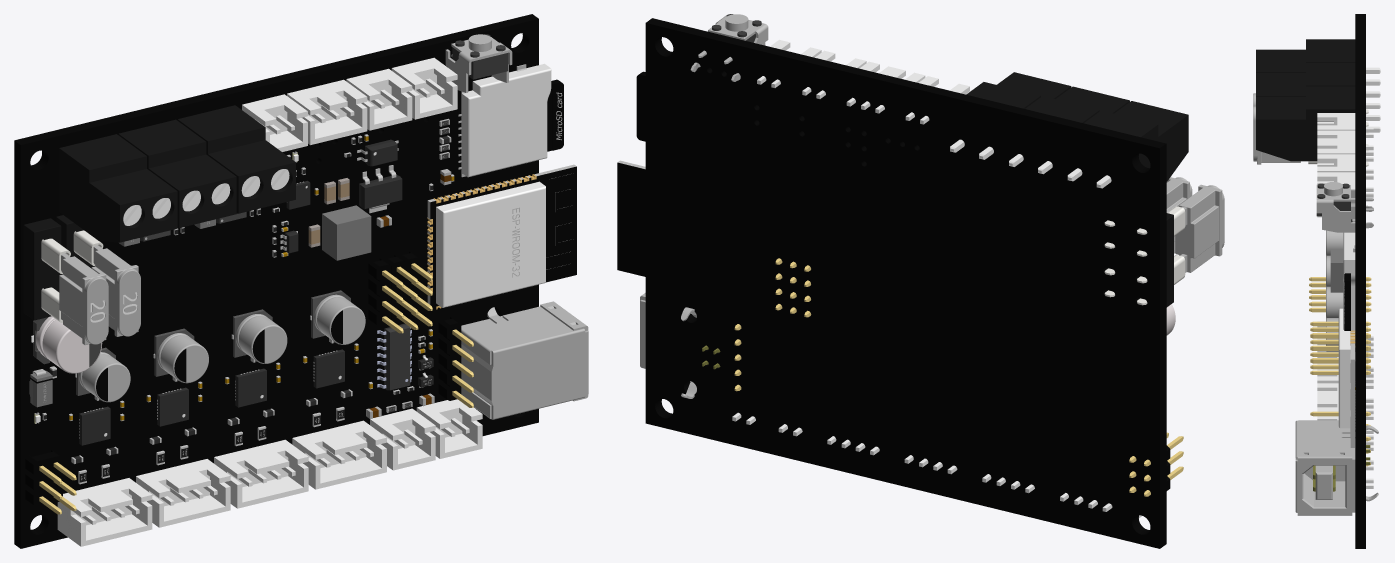
Rendered from pcb.glb.
3 renders of one model, left to right at view 1: azimuth 30°, elevation 25°; view 2: azimuth 150°, elevation 25°; view 3: azimuth 270°, elevation 25°, orthographic. The views are drawn at different scales.
Parts seen in each view (by area): view 1: Board.step-1/Open CASCADE STEP translator 6.8 1.1.1.step-1, U3.step-1/KiCAD-ESP-WROOM-32.step-1/ESP-WROOM-32.step-1, J2.step-1/5954930432.step-1, P14.step-1/KF129-2P.step-1, J1.step-1/User_Library-micro-sd-card.step-1, P4.step-1/KF129-2P.step-1, P11.step-1/KF129-2P.step-1, P8.step-1/B4B-XH-A_RGB16777215.step-1, P9.step-1/B4B-XH-A_RGB16777215.step-1, P7.step-1/B4B-XH-A_RGB16777215.step-1, P10.step-1/B4B-XH-A_RGB16777215.step-1, F1.step-1/Fusibile_Lama_MINI_Type_1.step-1 (+29 smaller); view 2: Board.step-1/Open CASCADE STEP translator 6.8 1.1.1.step-1, P14.step-1/KF129-2P.step-1, F1.step-1/Fusibile_Lama_MINI_Type_1.step-1, U3.step-1/KiCAD-ESP-WROOM-32.step-1/ESP-WROOM-32.step-1, P4.step-1/KF129-2P.step-1, P11.step-1/KF129-2P.step-1, SW1.step-1/User_Library-pts645-v-l-39.step-1, J2.step-1/5954930432.step-1, F1.step-1/Mini_Blade_Fuse_Holder.step-1/Fuse_Holder.step-1/P, P19.step-1/5953187088.step-1, F1.step-1/Mini_Blade_Fuse_Holder.step-1/Fuse_Holder.step-1/B, F2.step-1/Fusibile_Lama_MINI_Type_1.step-1; view 3: Board.step-1/Open CASCADE STEP translator 6.8 1.1.1.step-1, J2.step-1/5954930432.step-1, P4.step-1/KF129-2P.step-1, P11.step-1/KF129-2P.step-1, P14.step-1/KF129-2P.step-1, U3.step-1/KiCAD-ESP-WROOM-32.step-1/ESP-WROOM-32.step-1, SW1.step-1/User_Library-pts645-v-l-39.step-1, J1.step-1/User_Library-micro-sd-card.step-1, P12.step-1/B3B-XH-A_RGB16777215.step-1, P6.step-1/B2B-XH-A_RGB16777215.step-1, P2.step-1/B2B-XH-A_RGB16777215.step-1, P7.step-1/B4B-XH-A_RGB16777215.step-1 (+13 smaller).
Boxes of the visible parts, x1,y1,x2,y2 form: Board.step-1/Open CASCADE STEP translator 6.8 1.1.1.step-1: (14, 14, 538, 548); U3.step-1/KiCAD-ESP-WROOM-32.step-1/ESP-WROOM-32.step-1: (427, 164, 576, 309); J2.step-1/5954930432.step-1: (461, 301, 588, 419); P14.step-1/KF129-2P.step-1: (59, 134, 177, 242); J1.step-1/User_Library-micro-sd-card.step-1: (458, 63, 563, 177); P4.step-1/KF129-2P.step-1: (177, 105, 295, 213); P11.step-1/KF129-2P.step-1: (118, 119, 236, 227); P8.step-1/B4B-XH-A_RGB16777215.step-1: (57, 478, 152, 546); P9.step-1/B4B-XH-A_RGB16777215.step-1: (292, 420, 386, 489); P7.step-1/B4B-XH-A_RGB16777215.step-1: (214, 439, 308, 508); P10.step-1/B4B-XH-A_RGB16777215.step-1: (136, 459, 230, 527); F1.step-1/Fusibile_Lama_MINI_Type_1.step-1: (59, 253, 108, 344); Board.step-1/Open CASCADE STEP translator 6.8 1.1.1.step-1: (645, 18, 1166, 548); P14.step-1/KF129-2P.step-1: (1067, 101, 1188, 188); F1.step-1/Fusibile_Lama_MINI_Type_1.step-1: (1175, 184, 1224, 272); U3.step-1/KiCAD-ESP-WROOM-32.step-1/ESP-WROOM-32.step-1: (617, 160, 645, 276); P4.step-1/KF129-2P.step-1: (950, 72, 1071, 159); P11.step-1/KF129-2P.step-1: (1009, 86, 1129, 174); SW1.step-1/User_Library-pts645-v-l-39.step-1: (690, 14, 768, 81); J2.step-1/5954930432.step-1: (640, 293, 720, 398); F1.step-1/Mini_Blade_Fuse_Holder.step-1/Fuse_Holder.step-1/P: (1137, 206, 1185, 305); P19.step-1/5953187088.step-1: (1129, 432, 1183, 496); F1.step-1/Mini_Blade_Fuse_Holder.step-1/Fuse_Holder.step-1/B: (1166, 213, 1173, 307); F2.step-1/Fusibile_Lama_MINI_Type_1.step-1: (1166, 177, 1192, 253); Board.step-1/Open CASCADE STEP translator 6.8 1.1.1.step-1: (1355, 14, 1365, 548); J2.step-1/5954930432.step-1: (1295, 420, 1378, 515); P4.step-1/KF129-2P.step-1: (1256, 86, 1380, 161); P11.step-1/KF129-2P.step-1: (1256, 62, 1380, 108); P14.step-1/KF129-2P.step-1: (1256, 39, 1380, 85); U3.step-1/KiCAD-ESP-WROOM-32.step-1/ESP-WROOM-32.step-1: (1338, 308, 1355, 447); SW1.step-1/User_Library-pts645-v-l-39.step-1: (1316, 182, 1373, 232); J1.step-1/User_Library-micro-sd-card.step-1: (1343, 232, 1355, 330); P12.step-1/B3B-XH-A_RGB16777215.step-1: (1317, 130, 1373, 163); P6.step-1/B2B-XH-A_RGB16777215.step-1: (1317, 154, 1373, 181); P2.step-1/B2B-XH-A_RGB16777215.step-1: (1317, 113, 1373, 137); P7.step-1/B4B-XH-A_RGB16777215.step-1: (1317, 383, 1373, 419).
Bounding box in the file's own units: 0.0961 × 0.0681 × 0.0235.
